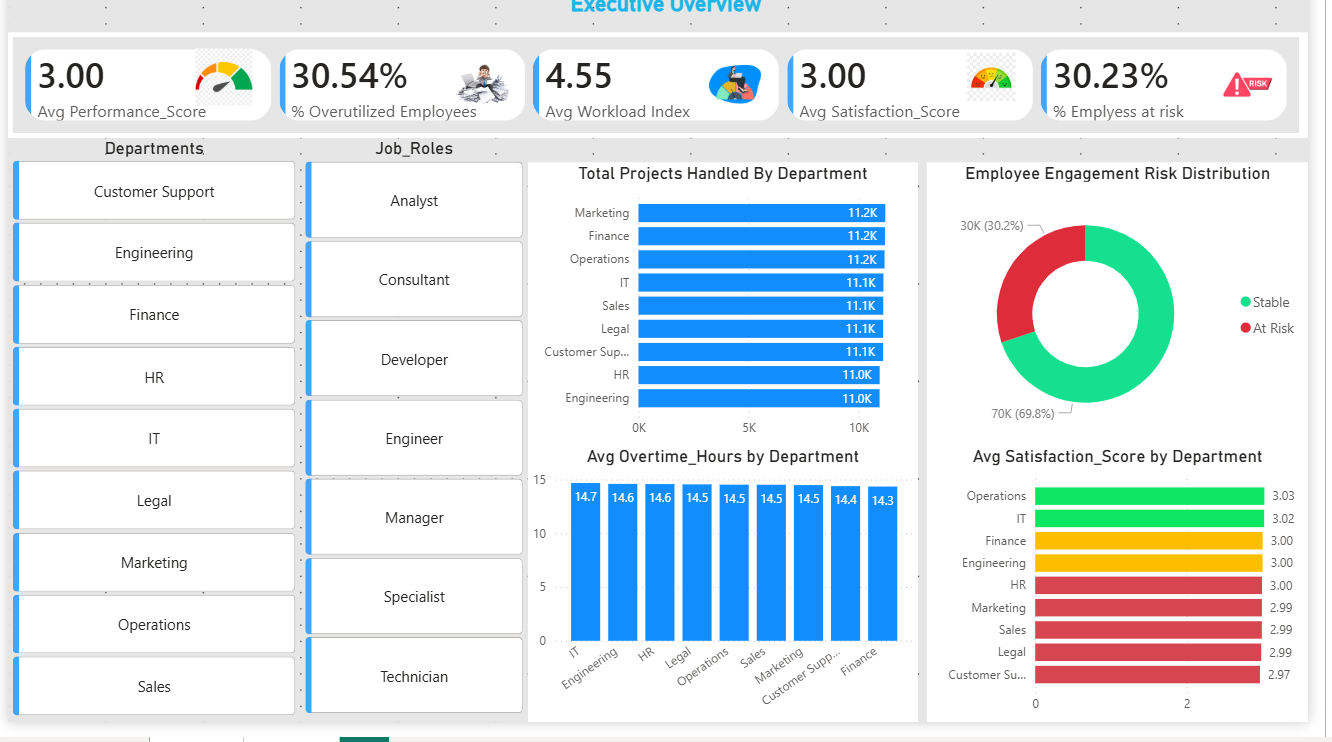

This screenshot's page, from the dashboard's own definition file:
{"tool":"powerbi","page":{"name":"Page 1","canvas":[1280,720],"ordinal":0},"visuals":[{"type":"cardVisual","fields":{"Data":["Avg(Employee Data.Performance_Score)","Employee Data.% Overutilized Employees","Avg(Employee Data.Workload Index)","Avg(Employee Data.Employee_Satisfaction_Score)","Employee Data.% Emplyess at risk"]},"box":[0,40,1280,104],"z":0},{"type":"advancedSlicerVisual","title":"Departments","fields":{"Values":["Employee Data.Department"]},"box":[0,144,288,576],"z":1000},{"type":"advancedSlicerVisual","title":"Job_Roles","fields":{"Values":["Employee Data.Job_Title"]},"box":[288,144,224,576],"z":2000},{"type":"image","box":[1192,64,56,56],"z":3000},{"type":"image","box":[440,64,56,56],"z":4000},{"type":"image","box":[184,56,56,56],"z":5000},{"type":"image","box":[688,64,56,56],"z":6000},{"type":"image","box":[944,56,48,56],"z":7000},{"type":"barChart","title":"Total Projects Handled By Department","fields":{"Category":["Employee Data.Department"],"Y":["CountNonNull(Employee Data.Performance Category)"]},"box":[512,168,384,280],"z":8000},{"type":"donutChart","title":"Employee Engagement Risk Distribution","fields":{"Category":["Employee Data.Engagement Risk Flag"],"Y":["Employee Data.Total Employees"]},"box":[904,168,376,280],"z":9000},{"type":"columnChart","title":"Avg Overtime_Hours by Department","fields":{"Category":["Employee Data.Department"],"Y":["Avg(Employee Data.Overtime_Hours)"]},"box":[512,448,384,272],"z":10000},{"type":"clusteredBarChart","title":"Avg Satisfaction_Score by Department","fields":{"Category":["Employee Data.Department"],"Y":["Avg(Employee Data.Employee_Satisfaction_Score)"]},"box":[904,448,376,272],"z":11000},{"type":"textbox","title":"Executive Overview","box":[496,0,304,32],"z":12000}]}

Visuals, with their boxes in screenshot pixels (x1, y1, x2, y2), scaled from the page's 1280x720 canvas onto the 1332x742 screenshot:
cardVisual - Avg(Employee Data.Performance_Score) x Employee Data.% Overutilized Employees: detection(0, 41, 1331, 148)
"Departments" advancedSlicerVisual: detection(0, 148, 300, 741)
"Job_Roles" advancedSlicerVisual: detection(300, 148, 533, 741)
image: detection(1240, 66, 1299, 124)
image: detection(458, 66, 516, 124)
image: detection(191, 58, 250, 115)
image: detection(716, 66, 774, 124)
image: detection(982, 58, 1032, 115)
"Total Projects Handled By Department" barChart: detection(533, 173, 932, 462)
"Employee Engagement Risk Distribution" donutChart: detection(941, 173, 1331, 462)
"Avg Overtime_Hours by Department" columnChart: detection(533, 462, 932, 741)
"Avg Satisfaction_Score by Department" clusteredBarChart: detection(941, 462, 1331, 741)
"Executive Overview" textbox: detection(516, 0, 832, 33)
